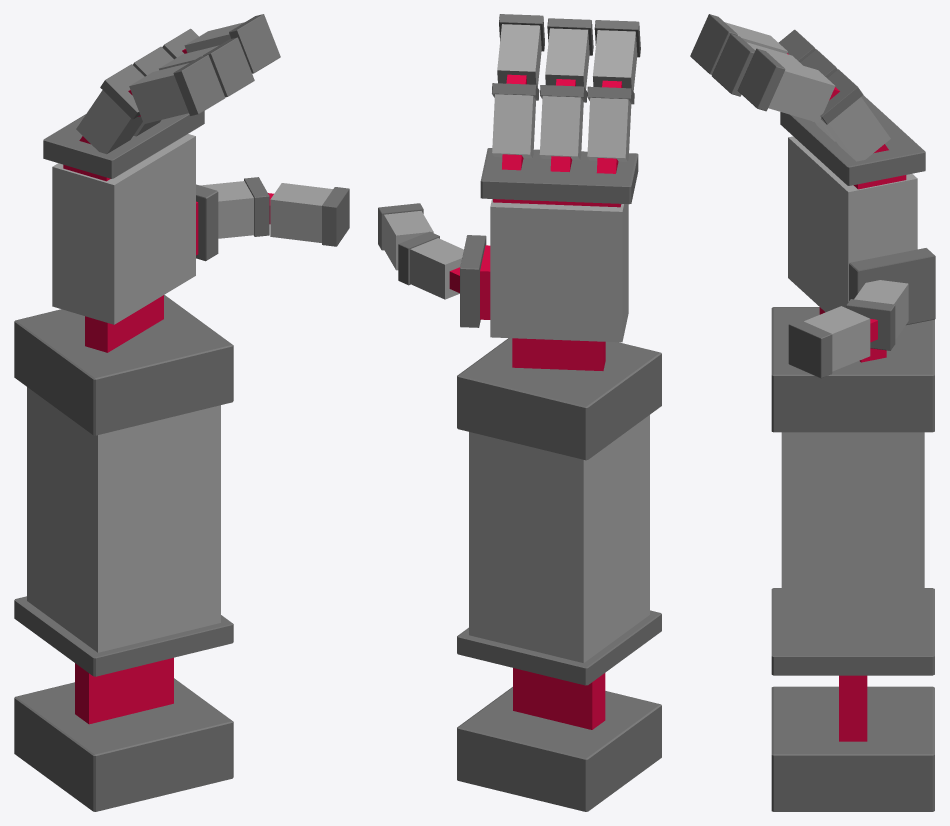
File: playerArm.fbx
3 renders of one model, left to right at view 1: azimuth 30°, elevation 25°; view 2: azimuth 150°, elevation 25°; view 3: azimuth 270°, elevation 25°, orthographic. The views are drawn at different scales.
Visible parts, largest first — view 1: playerArmMerge; view 2: playerArmMerge; view 3: playerArmMerge.
Boxes of the visible parts, x1,y1,x2,y2 form: playerArmMerge: (14,14,349,811); playerArmMerge: (378,14,661,811); playerArmMerge: (690,14,935,811).
Size of the model in its own units: 2.48 by 6.21 by 1.81.
